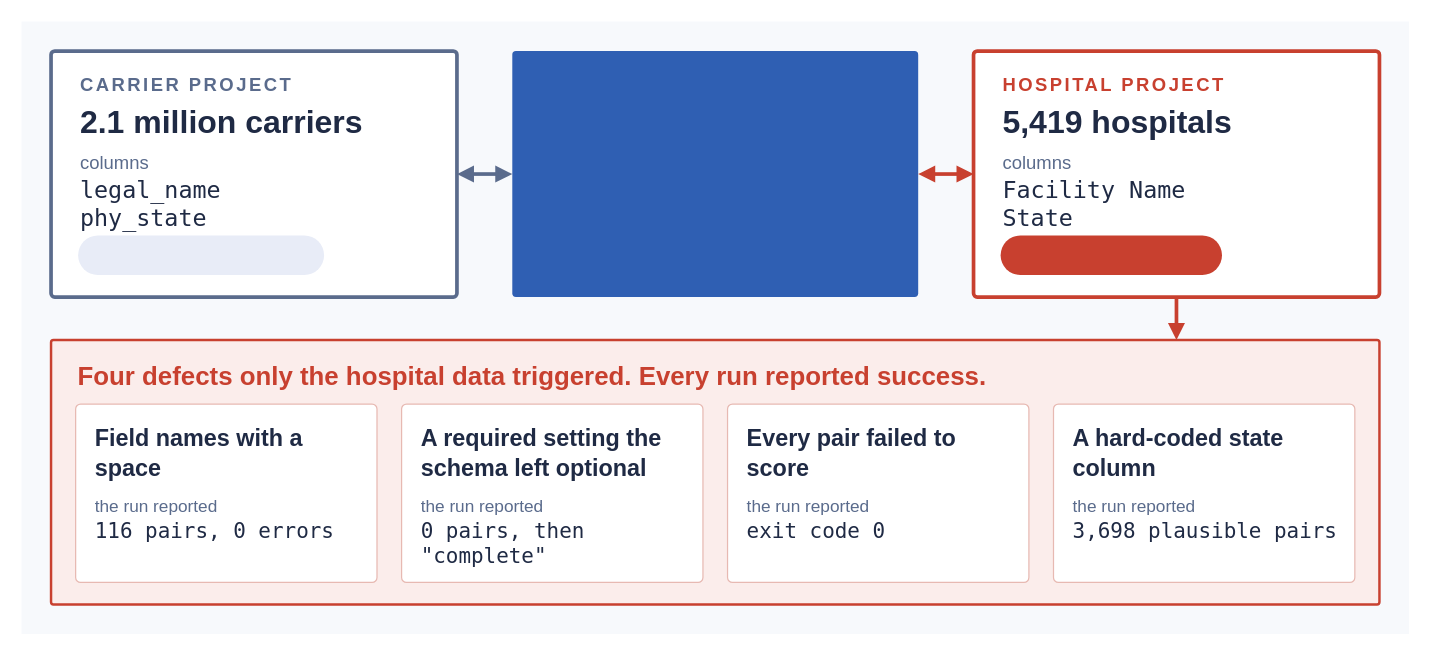
Image size: 1429x654. Some labels were removed from this diagram. Each missing label, with the centre of its shape:
4 defects exposed: the point at 1110,254
defects stayed hidden: the point at 200,254
SHARED ENGINE Same Python code A JSON configuration for each dataset: the point at 715,173
